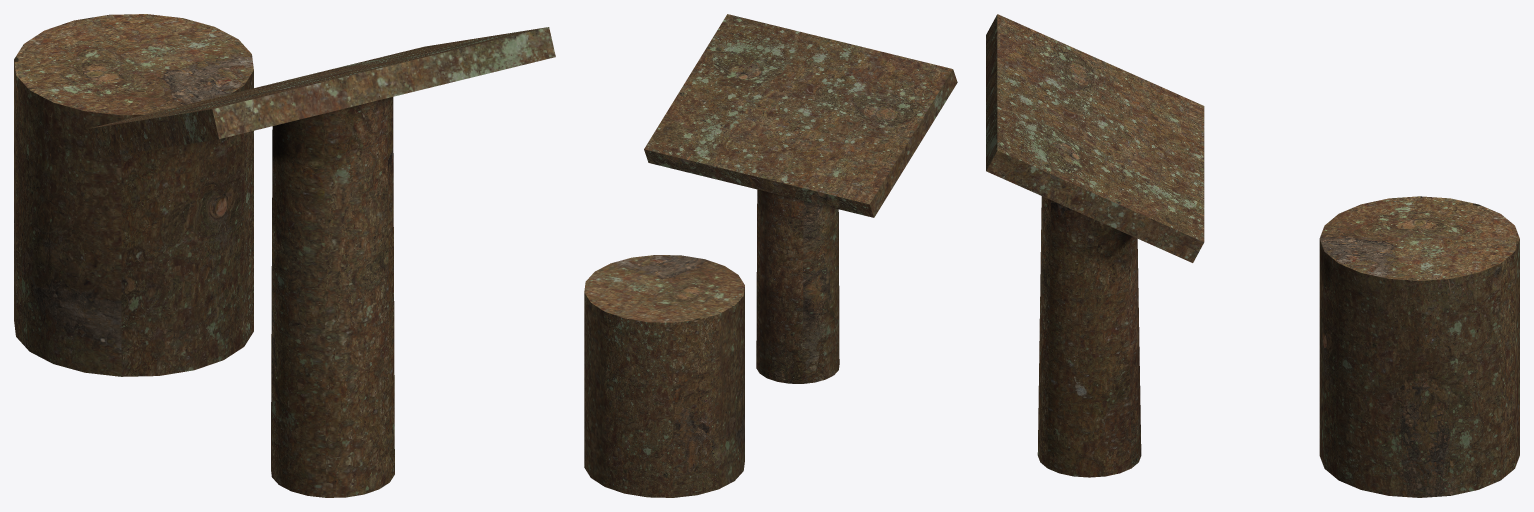
Rendered from TableForestEnvironment01.fbx.
3 renders of one model, left to right at view 1: azimuth 30°, elevation 25°; view 2: azimuth 150°, elevation 25°; view 3: azimuth 270°, elevation 25°, orthographic. The views are drawn at different scales.
Visible parts, largest first — view 1: Seater, TableBotom, Tabletp; view 2: Tabletp, Seater, TableBotom; view 3: Seater, Tabletp, TableBotom.
Part boxes in pixels (x1,y1,x2,y2): Seater: (14, 14, 253, 376); TableBotom: (271, 97, 394, 497); Tabletp: (87, 27, 555, 158); Tabletp: (644, 14, 957, 217); Seater: (584, 255, 744, 497); TableBotom: (756, 189, 839, 383); Seater: (1319, 196, 1519, 497); Tabletp: (986, 14, 1204, 262); TableBotom: (1037, 196, 1141, 477).
Bounding box in the file's own units: 67.97 × 86.04 × 112.
Materials: 1 (1 with a texture image).
